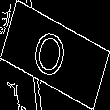O_S: (34, 24, 76, 86)
